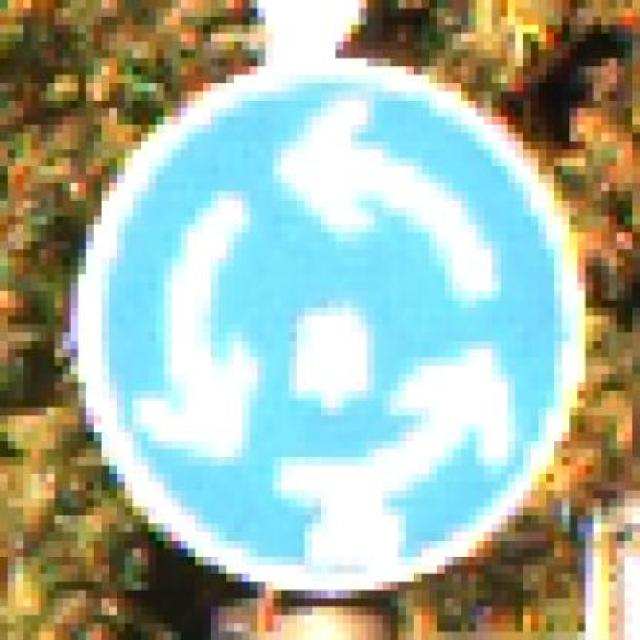Round-About: (46, 42, 609, 616)
